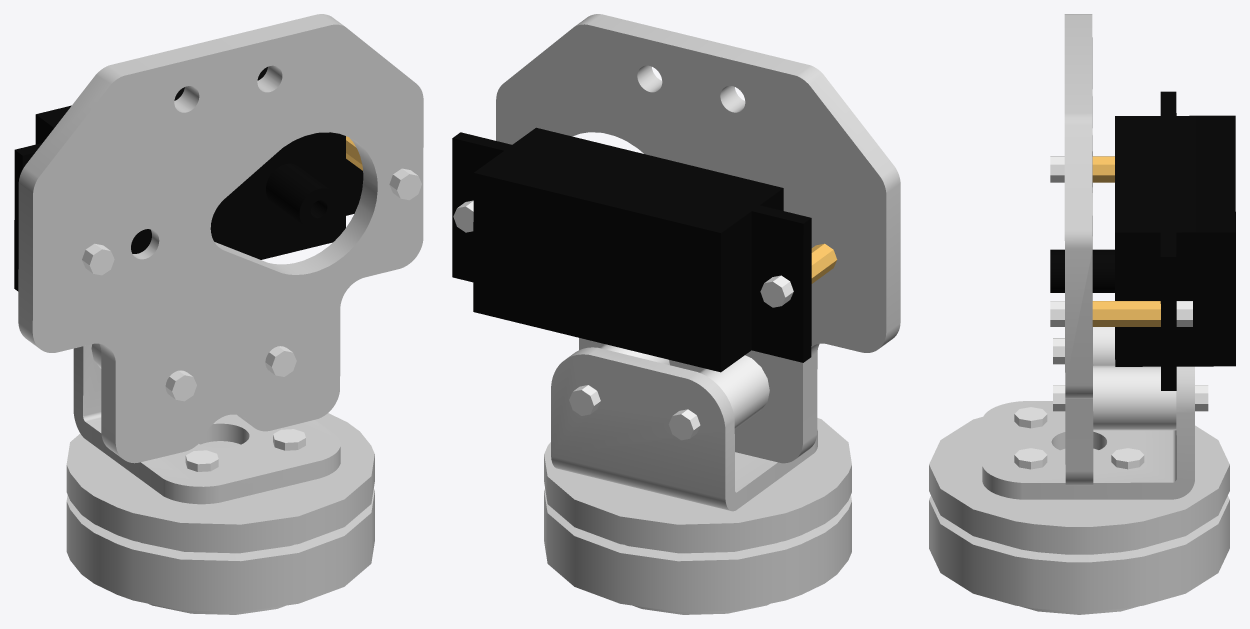
Rendered from hand01.gltf.
3 renders of one model, left to right at view 1: azimuth 30°, elevation 25°; view 2: azimuth 150°, elevation 25°; view 3: azimuth 270°, elevation 25°, orthographic. The views are drawn at different scales.
Visible parts, largest first — view 1: hand01; view 2: hand01; view 3: hand01.
Boxes of the visible parts, box(x1,y1,x2,y2) form: hand01: box(14, 14, 423, 614); hand01: box(452, 14, 900, 614); hand01: box(929, 14, 1235, 614).
Size of the model in its own units: 1.85 by 2.37 by 1.31.
